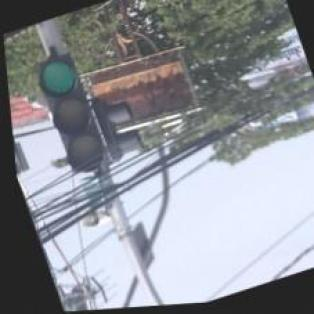Semaforo Verde: (31, 50, 110, 177)
